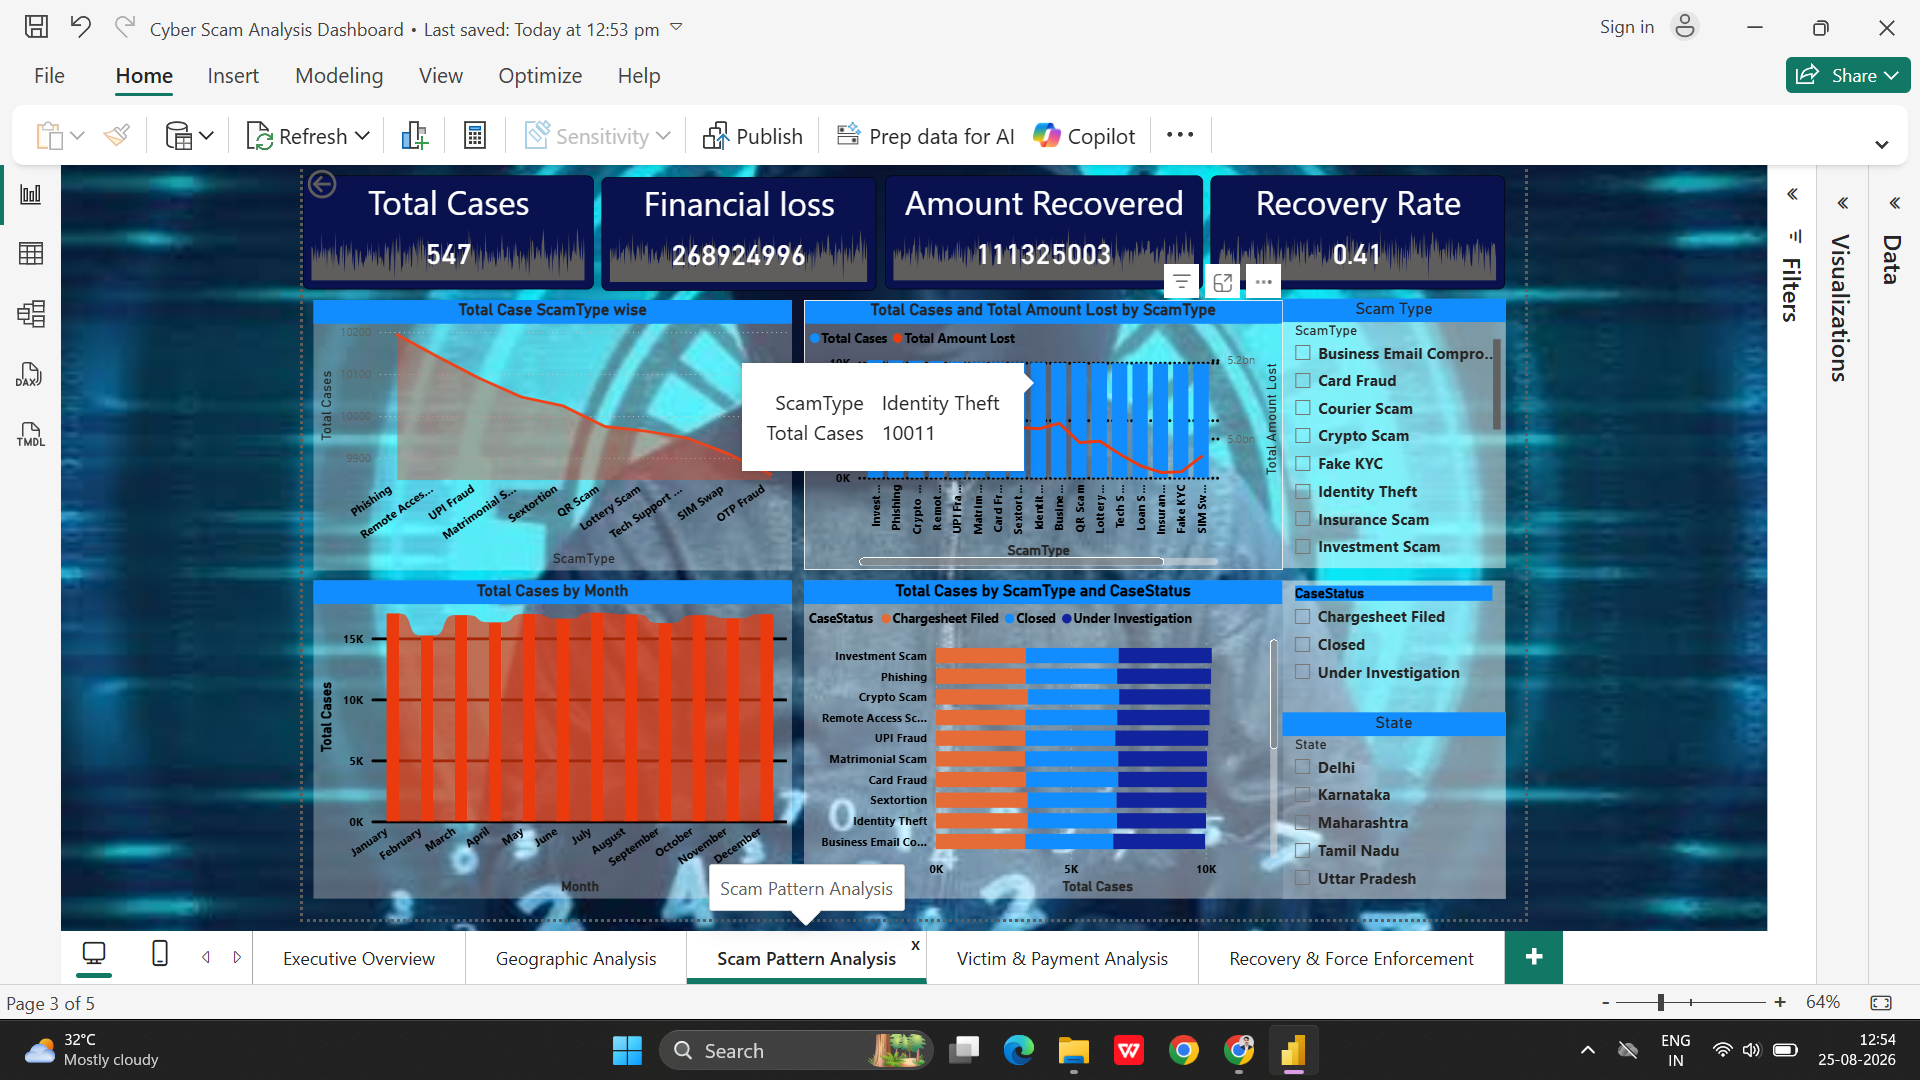

Layout of this report page (visuals, bound fields, positions):
{"tool":"powerbi","page":{"name":"Scam Pattern Analysis","canvas":[1280,790],"ordinal":2},"visuals":[{"type":"kpi","title":"Total Cases","fields":{"Indicator":["Sheet.Total Cases"],"TrendLine":["Sheet.Date"]},"box":[0,11.6,304.4,119.6],"z":0},{"type":"kpi","title":"Financial loss","fields":{"Indicator":["Sheet.Total Amount Lost"],"TrendLine":["Sheet.Date"]},"box":[312.9,12.1,287.7,119.6],"z":1},{"type":"kpi","title":"Amount Recovered","fields":{"Indicator":["Sheet.Total Amount Recovered"],"TrendLine":["Sheet.Date"]},"box":[609.2,10.6,333.1,119.6],"z":2},{"type":"kpi","title":"Recovery Rate","fields":{"Indicator":["Sheet.Recovery rate %"],"TrendLine":["Sheet.Date"]},"box":[950.9,11.1,308.9,119.6],"z":3},{"type":"areaChart","title":"Total Case  ScamType wise ","fields":{"Category":["Sheet.ScamType"],"Y":["Sheet.Total Cases"]},"box":[10.6,140.8,501.2,283.2],"z":4},{"type":"lineClusteredColumnComboChart","fields":{"Y":["Sheet.Total Cases"],"Y2":["Sheet.Total Amount Lost"],"Category":["Sheet.ScamType"]},"box":[524.9,141.4,501.4,282.9],"z":5},{"type":"ribbonChart","fields":{"Category":["Sheet.Date.Variation.Date Hierarchy.Month"],"Y":["Sheet.Total Cases"]},"box":[10.7,435.4,501.1,333.1],"z":6},{"type":"barChart","fields":{"Series":["Sheet.CaseStatus"],"Y":["Sheet.Total Cases"],"Category":["Sheet.ScamType"]},"box":[525.6,435.4,501.1,333.1],"z":7},{"type":"slicer","title":"State ","fields":{"Values":["Sheet.State"]},"box":[1026.7,573,233.8,195.6],"z":8},{"type":"slicer","title":"State ","fields":{"Values":["Sheet.CaseStatus"]},"box":[1026.6,436.1,233.2,137.8],"z":9},{"type":"slicer","title":"Scam Type","fields":{"Values":["Sheet.ScamType"]},"box":[1026.7,140.6,233.8,282.7],"z":10},{"type":"actionButton","box":[0,0,100,40],"z":11}]}

Visuals, with their boxes on the page's 1280x790 design canvas (x1, y1, x2, y2). These are canvas units, not pixel positions in the 1920x1080 screenshot, which may show the page scaled, cropped or inside an application window:
"Total Cases" kpi: region(0, 12, 304, 131)
"Financial loss" kpi: region(313, 12, 601, 132)
"Amount Recovered" kpi: region(609, 11, 942, 130)
"Recovery Rate" kpi: region(951, 11, 1260, 131)
"Total Case  ScamType wise " areaChart: region(11, 141, 512, 424)
lineClusteredColumnComboChart - Sheet.Total Cases x Sheet.Total Amount Lost: region(525, 141, 1026, 424)
ribbonChart - Sheet.Date.Variation.Date Hierarchy.Month x Sheet.Total Cases: region(11, 435, 512, 768)
barChart - Sheet.CaseStatus x Sheet.Total Cases: region(526, 435, 1027, 768)
"State " slicer: region(1027, 573, 1260, 769)
"State " slicer: region(1027, 436, 1260, 574)
"Scam Type" slicer: region(1027, 141, 1260, 423)
actionButton: region(0, 0, 100, 40)
